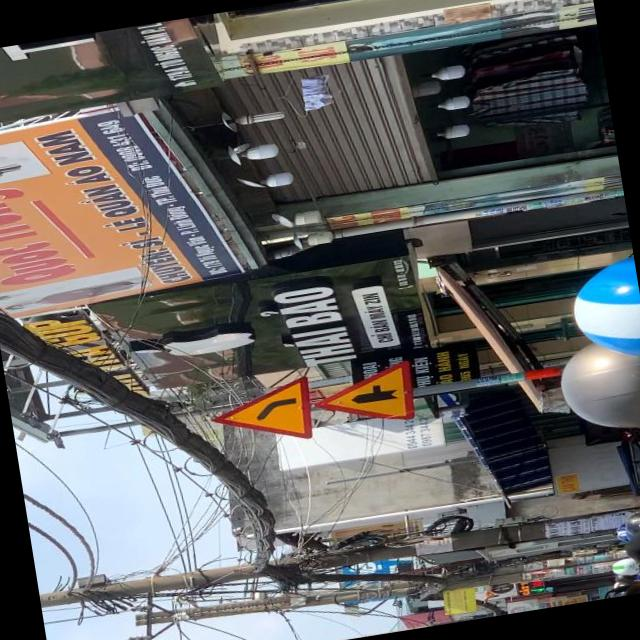W-201a: (210, 372, 318, 454)
W-207b: (311, 356, 418, 433)
